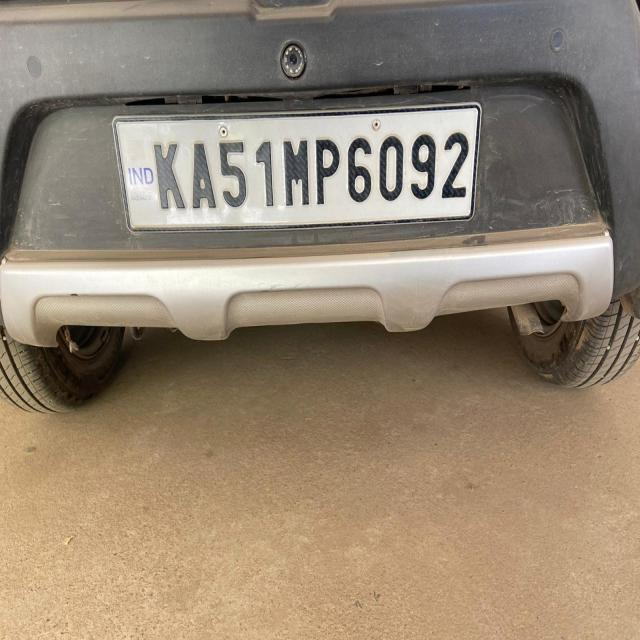0: (377, 132, 405, 203)
1: (251, 136, 279, 214)
5: (215, 130, 254, 212)
6: (346, 139, 374, 208)
9: (409, 127, 437, 210)
A: (188, 136, 218, 219)
K: (148, 135, 190, 221)
M: (281, 136, 314, 217)
P: (310, 138, 343, 209)
